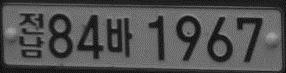1: (145, 15, 172, 61)
4: (76, 14, 104, 59)
6: (206, 15, 234, 63)
7: (235, 16, 263, 63)
8: (48, 12, 73, 58)
9: (175, 14, 202, 61)
바: (106, 17, 133, 57)
전남_V: (19, 12, 45, 58)
